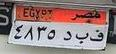3: (36, 24, 47, 42)
4: (13, 24, 23, 41)
5: (47, 29, 57, 43)
8: (24, 24, 34, 43)
baa: (75, 31, 89, 45)
daal: (62, 29, 73, 43)
faa: (90, 29, 106, 45)
